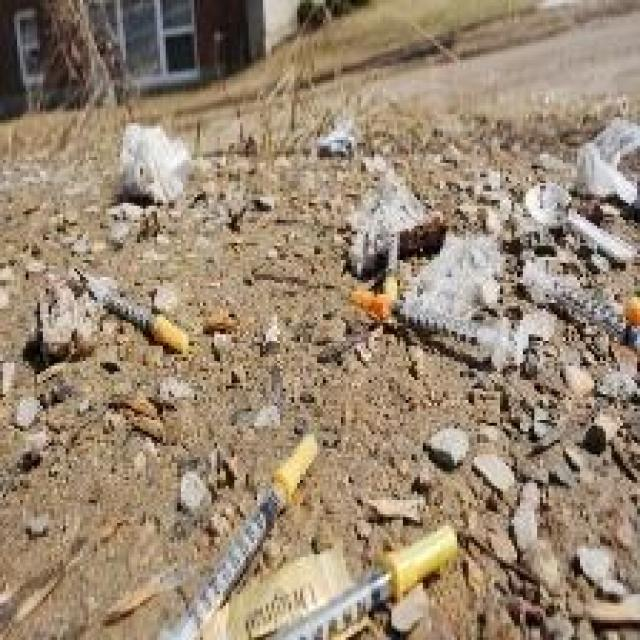syringe: (202, 433, 464, 640), (317, 273, 519, 385), (60, 253, 218, 364), (533, 261, 638, 368)
